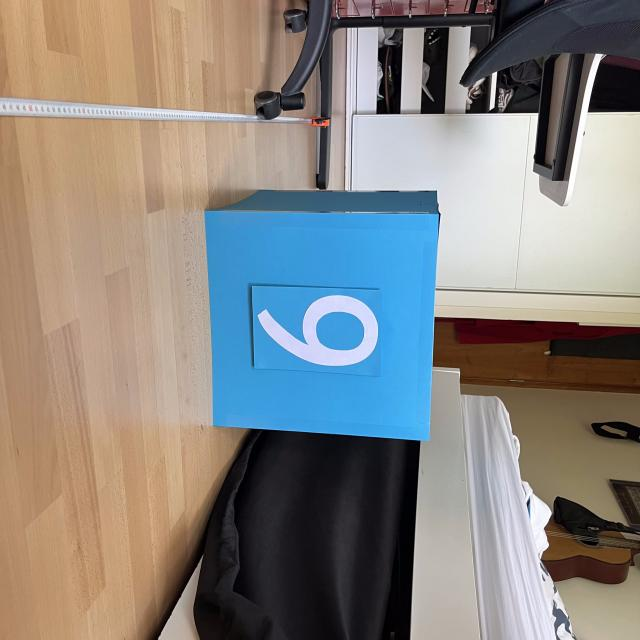box: (199, 185, 443, 444)
